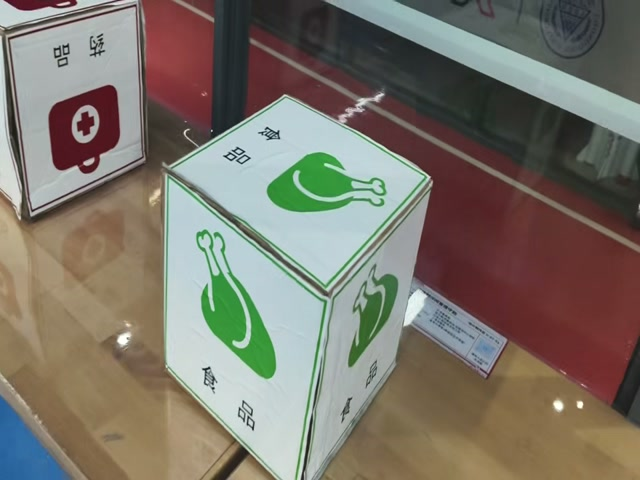Cube_food: (158, 89, 436, 303)
Cube_medicine: (2, 0, 141, 37)
